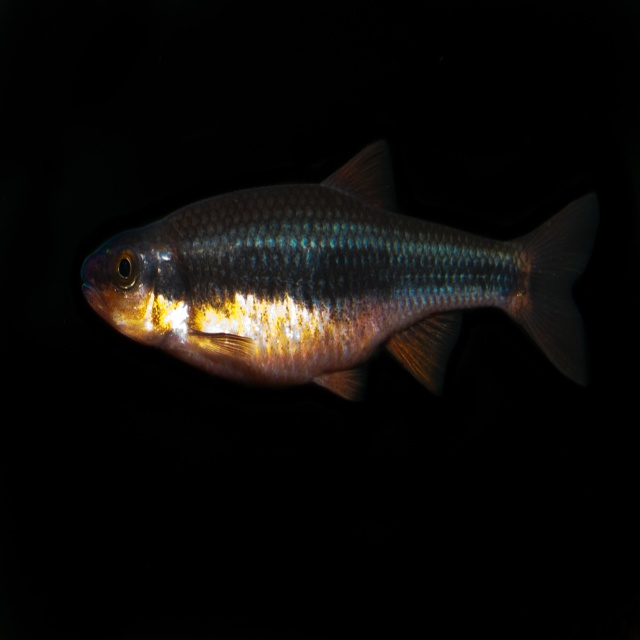Fish: (79, 144, 599, 415)
